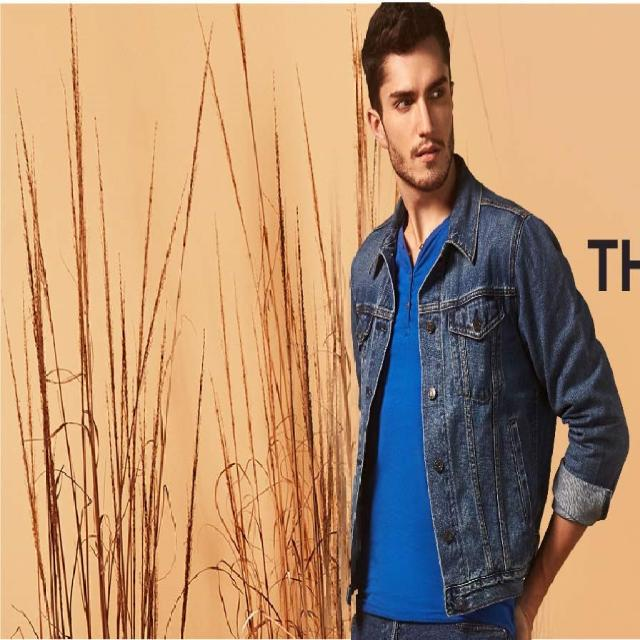human: (332, 2, 634, 640)
